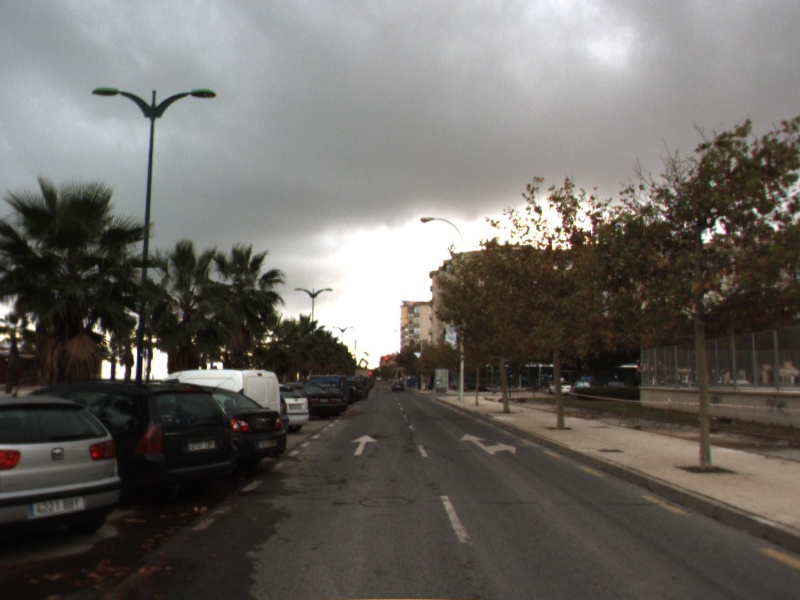STRAIGHT: (349, 433, 379, 457)
STRAIGHT_RIGHT: (459, 432, 518, 456)
